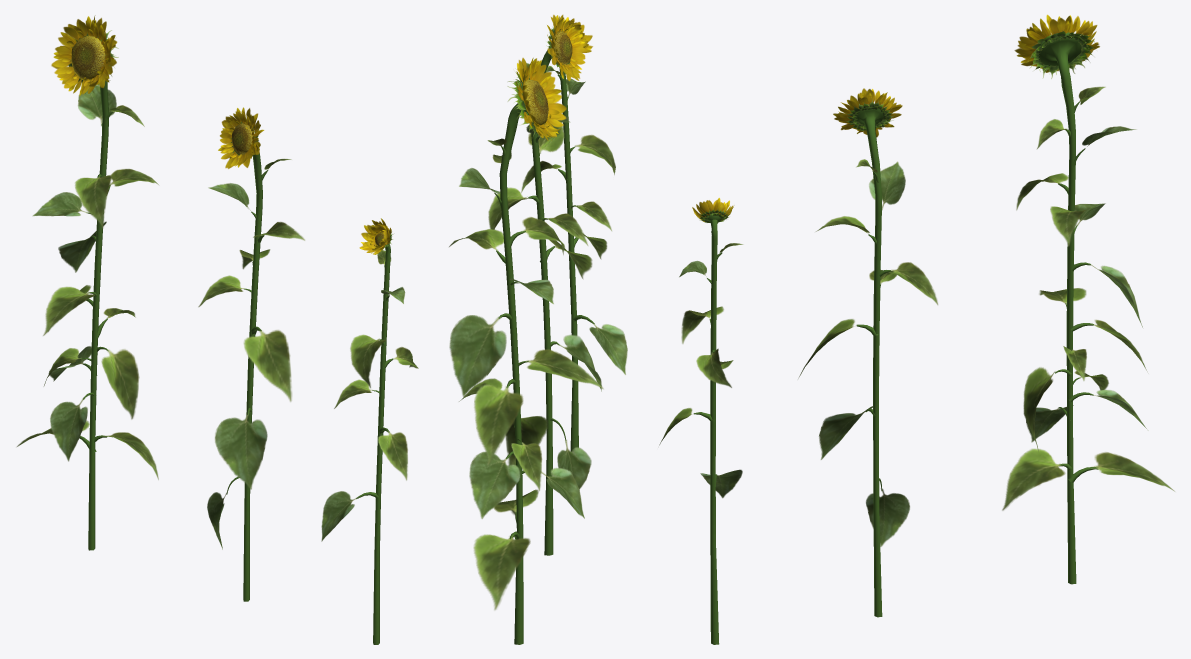
The model's file is sunflower-d9925e.glb.
3 renders of one model, left to right at view 1: azimuth 30°, elevation 25°; view 2: azimuth 150°, elevation 25°; view 3: azimuth 270°, elevation 25°, orthographic. The views are drawn at different scales.
Parts seen in each view (by area): view 1: PropMesh; view 2: PropMesh; view 3: PropMesh.
Part boxes in pixels (box(x1,y1,x2,y2)): PropMesh: box(17, 15, 418, 644); PropMesh: box(449, 14, 627, 644); PropMesh: box(659, 14, 1174, 644).
Bounding box in the file's own units: 0.6323 × 1.45 × 1.2.
2 materials, 2 textured.
